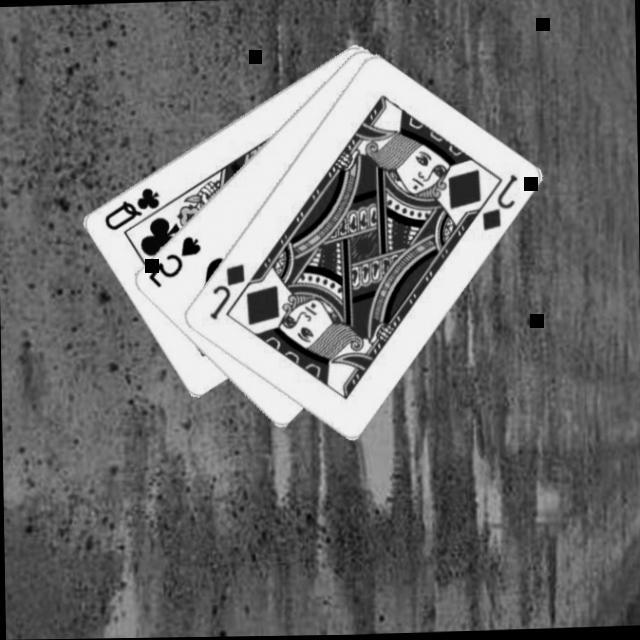5S: (146, 233, 206, 292)
JD: (478, 172, 523, 236), (207, 261, 250, 325)
QC: (102, 184, 164, 234)
